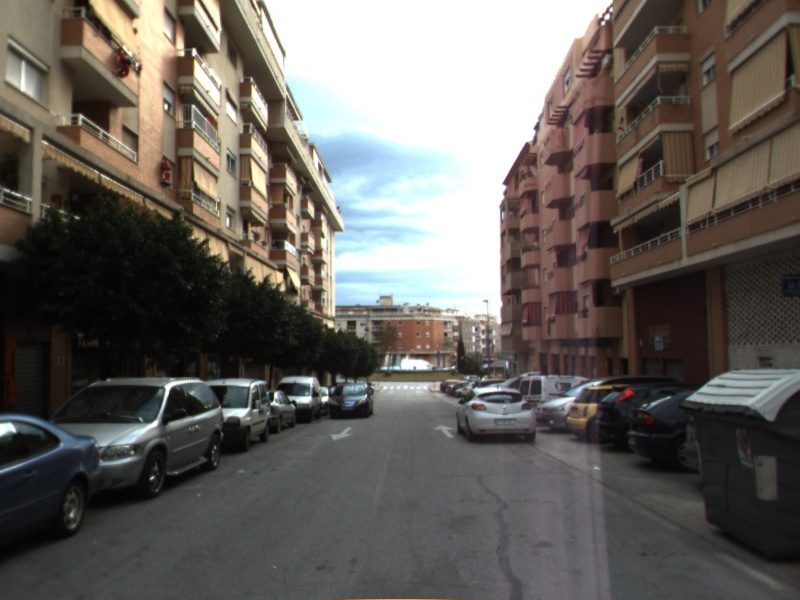STRAIGHT: (432, 423, 457, 440)
